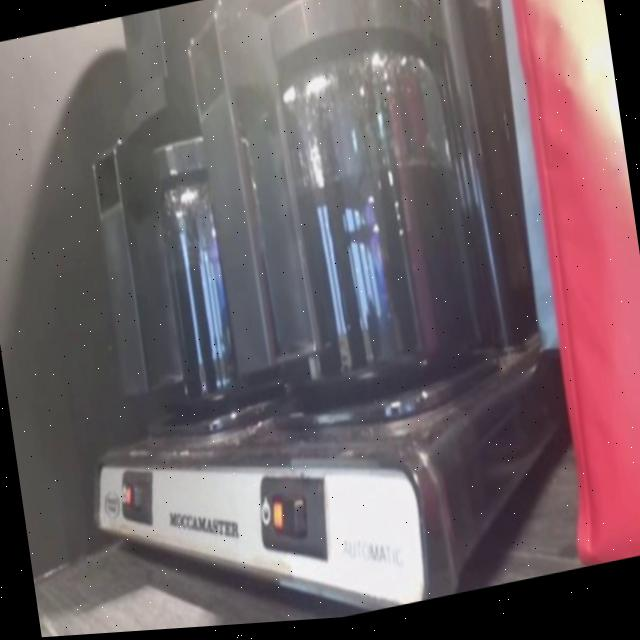coffee: (247, 72, 478, 411), (138, 190, 278, 423)
